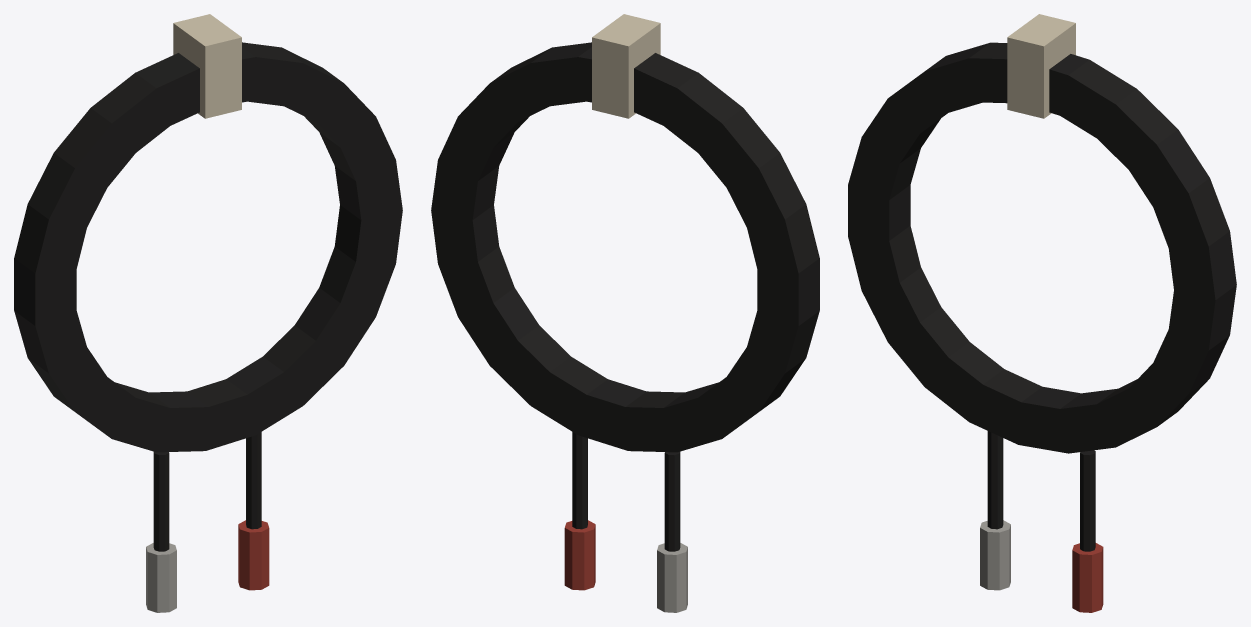
Rendered from cable-coil-small-patch.glb.
3 renders of one model, left to right at view 1: azimuth 30°, elevation 25°; view 2: azimuth 150°, elevation 25°; view 3: azimuth 330°, elevation 25°, orthographic.
Parts seen in each view (by area): view 1: rubber, paper, accent-warm, brushed; view 2: rubber, paper, accent-warm, brushed; view 3: rubber, paper, accent-warm, brushed.
Boxes of the visible parts, x1,y1,x2,y2 form: rubber: [14, 42, 402, 551]; paper: [173, 14, 241, 118]; accent-warm: [238, 520, 269, 590]; brushed: [146, 543, 176, 612]; rubber: [431, 42, 819, 551]; paper: [592, 14, 660, 118]; accent-warm: [564, 520, 595, 590]; brushed: [657, 543, 687, 612]; rubber: [848, 42, 1236, 551]; paper: [1007, 14, 1075, 118]; accent-warm: [1072, 543, 1103, 612]; brushed: [980, 520, 1010, 590].
Bounding box in the file's own units: 0.1593 × 0.234 × 0.024.
